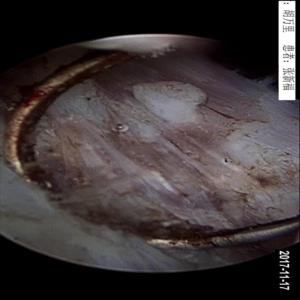film: (67, 77, 277, 223)
